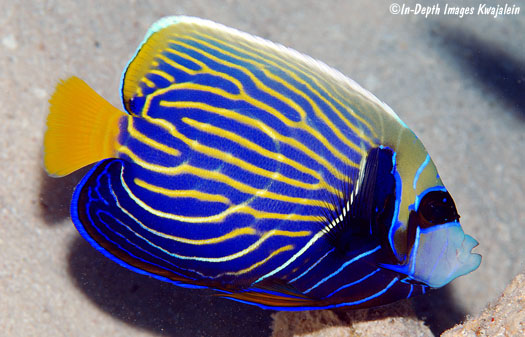Pomacanthus_imperator: (33, 7, 494, 329)
